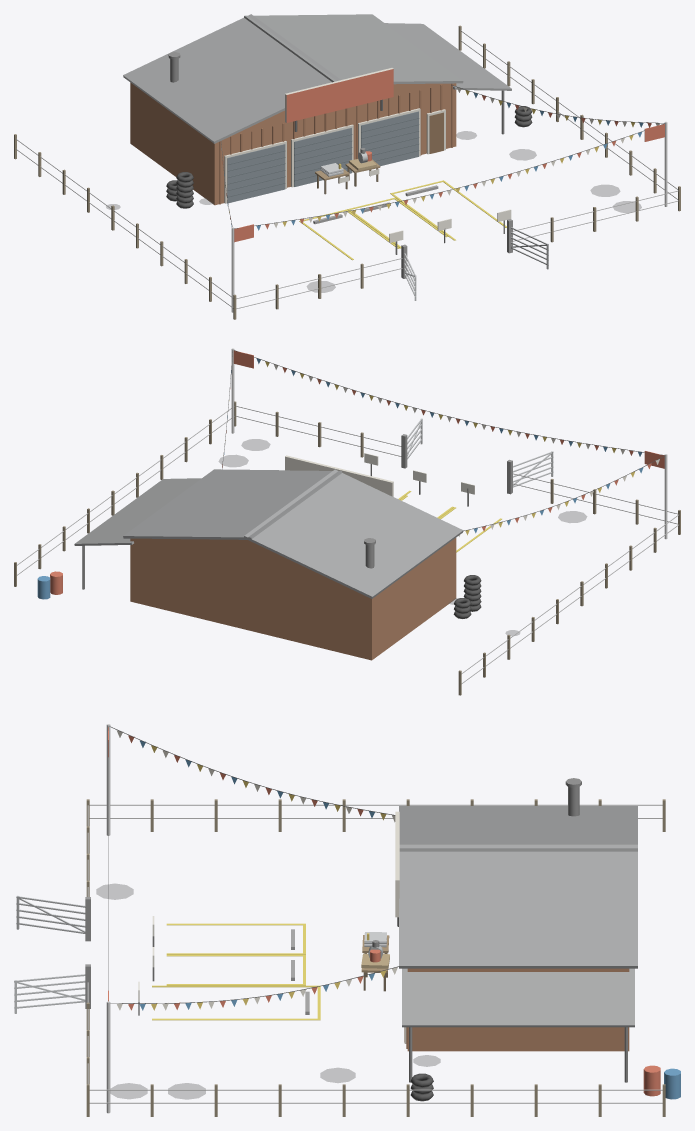
File: cwmbiga_motors.glb
3 views of the same model, one above another, from view 1: azimuth 30°, elevation 25°; view 2: azimuth 150°, elevation 25°; view 3: azimuth 270°, elevation 25° (orthographic). The views are drawn at different scales.
Size of the model in its own units: 23.3 by 4.93 by 22.96.
